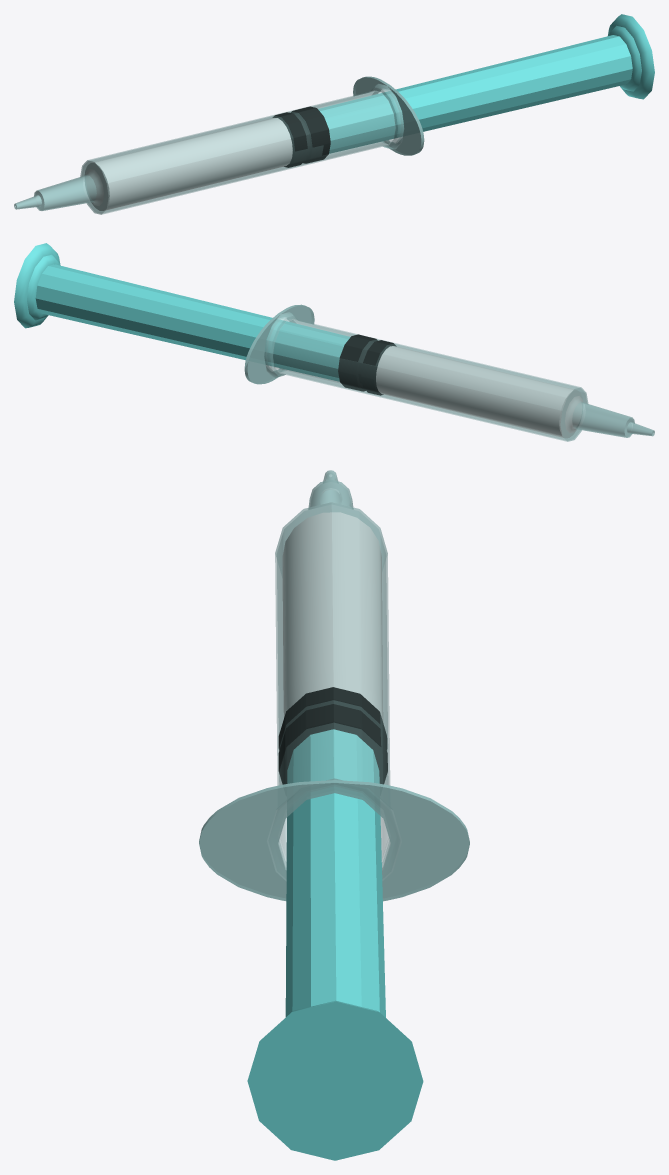
Rendered from SyringeFull.FBX.
The picture shows the model from 3 angles, top to bottom: view 1: azimuth 30°, elevation 25°; view 2: azimuth 150°, elevation 25°; view 3: azimuth 270°, elevation 25°; orthographic projection. The views are drawn at different scales.
Visible parts, largest first — view 1: pusher, body, drug, head, protector, trigger001; view 2: pusher, body, drug, head, protector, trigger001; view 3: body, pusher, trigger001, drug, protector, head.
Boxes of the visible parts, bbox=[...] form: pusher: bbox=[272, 35, 632, 167]; body: bbox=[82, 91, 395, 214]; drug: bbox=[85, 118, 292, 210]; head: bbox=[14, 160, 108, 214]; protector: bbox=[353, 76, 424, 155]; trigger001: bbox=[608, 14, 654, 99]; pusher: bbox=[35, 264, 396, 395]; body: bbox=[273, 319, 586, 441]; drug: bbox=[376, 346, 582, 437]; head: bbox=[560, 387, 654, 441]; protector: bbox=[244, 304, 314, 384]; trigger001: bbox=[14, 243, 60, 328]; body: bbox=[275, 502, 389, 861]; pusher: bbox=[278, 687, 387, 1017]; trigger001: bbox=[247, 1000, 423, 1160]; drug: bbox=[282, 512, 383, 722]; protector: bbox=[199, 778, 469, 901]; head: bbox=[275, 470, 387, 573].
Size of the model in its own units: 13.09 by 1.62 by 2.49.
